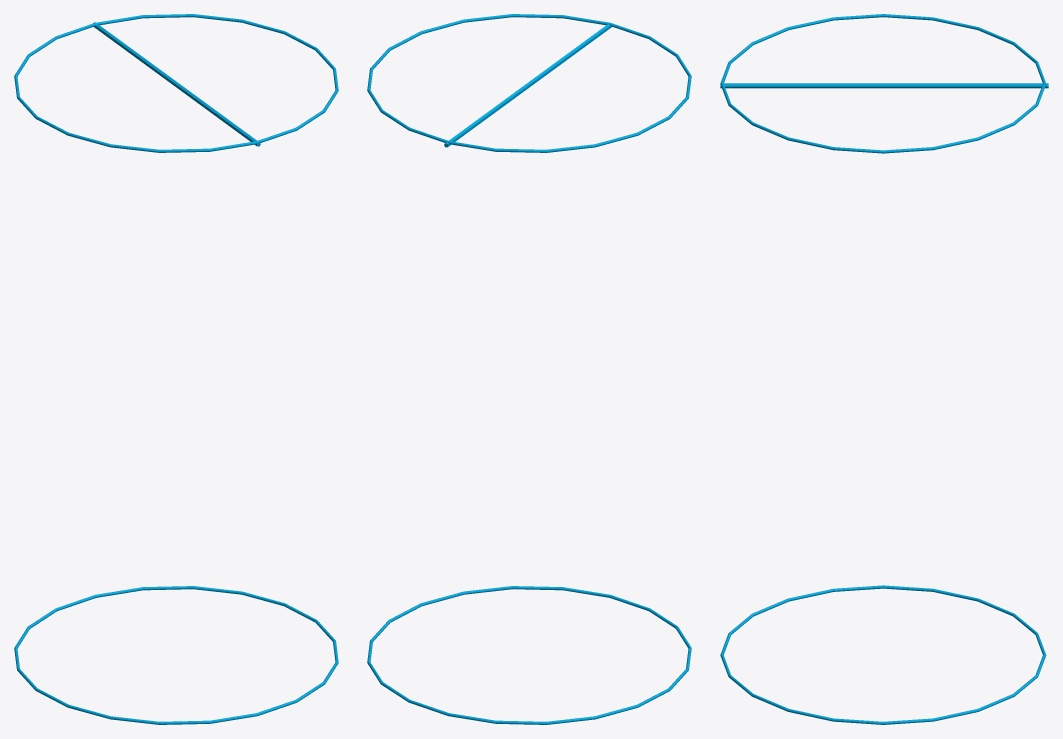
The model's file is Lampshade_01.fbx.
3 views of the same model, side by side, from view 1: azimuth 30°, elevation 25°; view 2: azimuth 150°, elevation 25°; view 3: azimuth 270°, elevation 25° (orthographic).
Parts seen in each view (by area): view 1: Lampshade_01; view 2: Lampshade_01; view 3: Lampshade_01.
Boxes of the visible parts, x1,y1,x2,y2 form: Lampshade_01: [14, 14, 338, 724]; Lampshade_01: [367, 14, 691, 724]; Lampshade_01: [720, 14, 1048, 724].
Bounding box in the file's own units: 26.74 × 52 × 26.93.
